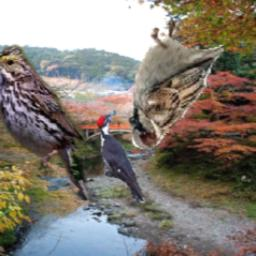Sparrow: (0, 44, 96, 201), (127, 16, 223, 150)
Woodpecker: (95, 109, 147, 205)
